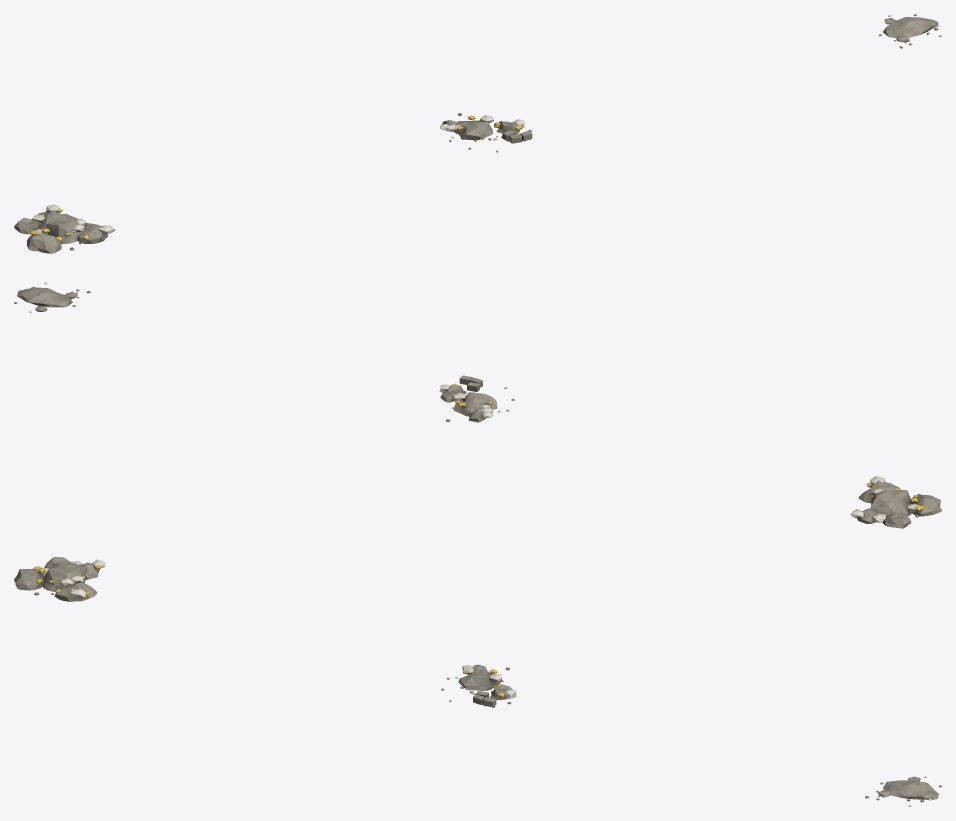
The model's file is gold-vein.glb.
3 views of the same model, one above another, from view 1: azimuth 30°, elevation 25°; view 2: azimuth 150°, elevation 25°; view 3: azimuth 330°, elevation 25° (orthographic).
Parts seen in each view (by area): view 1: LOD0, LOD0.001, LOD0.002; view 2: LOD0, LOD0.001, LOD0.002; view 3: LOD0, LOD0.001, LOD0.002.
Part boxes in pixels (x1,y1,x2,y2): LOD0: (14,204,114,253); LOD0.001: (440,113,532,152); LOD0.002: (879,14,941,48); LOD0: (850,476,941,528); LOD0.001: (439,375,514,422); LOD0.002: (14,282,90,312); LOD0: (14,557,105,601); LOD0.001: (441,664,516,707); LOD0.002: (865,776,941,806).
Size of what is drawn, in the model's own units: 6.47 by 0.1058 by 0.6238.
Materials: 1 (1 with a texture image).
